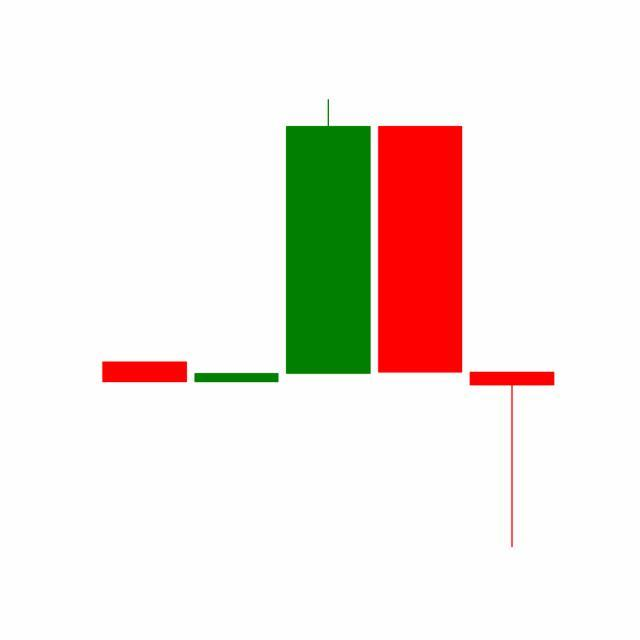Hammer: (466, 370, 559, 551)
